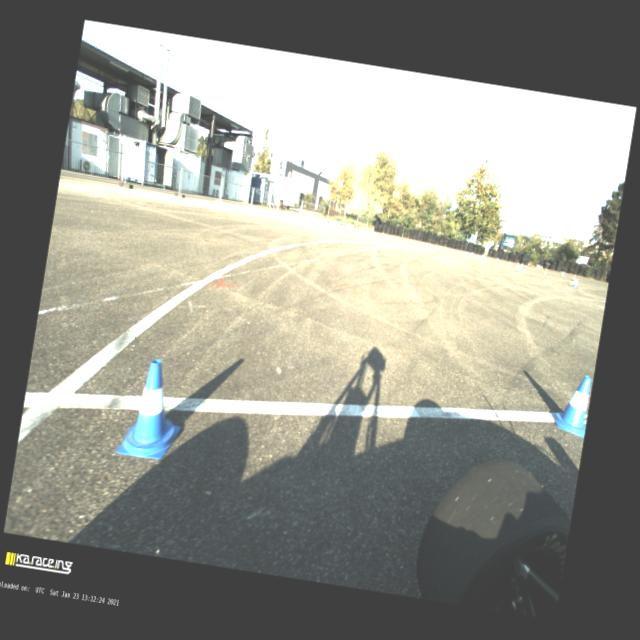blue_cone: (116, 355, 190, 462), (548, 372, 594, 439), (572, 278, 578, 288), (516, 265, 522, 273), (482, 256, 487, 263), (464, 251, 468, 257), (480, 254, 484, 260), (560, 271, 564, 277), (495, 257, 499, 262), (520, 262, 524, 267), (470, 252, 473, 258)
yellow_cone: (570, 276, 576, 285), (506, 260, 512, 268), (522, 265, 528, 273), (573, 274, 577, 281), (544, 268, 548, 274), (516, 262, 518, 268)
